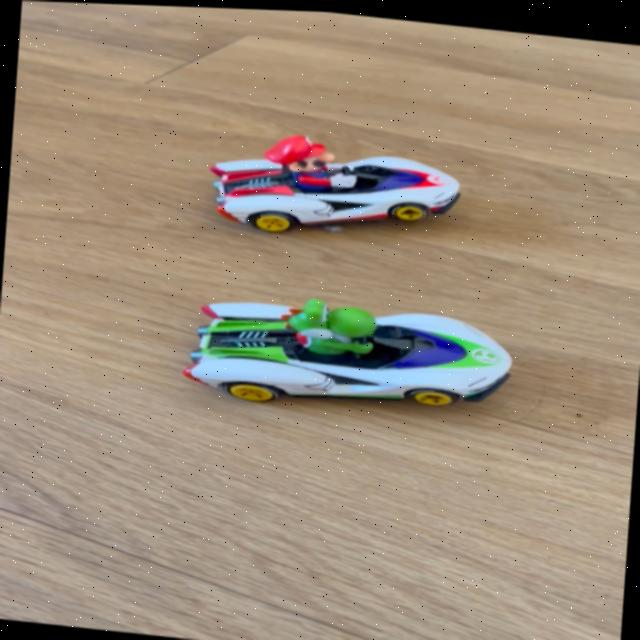mario: (196, 120, 474, 248)
yoshi: (152, 262, 507, 424)
